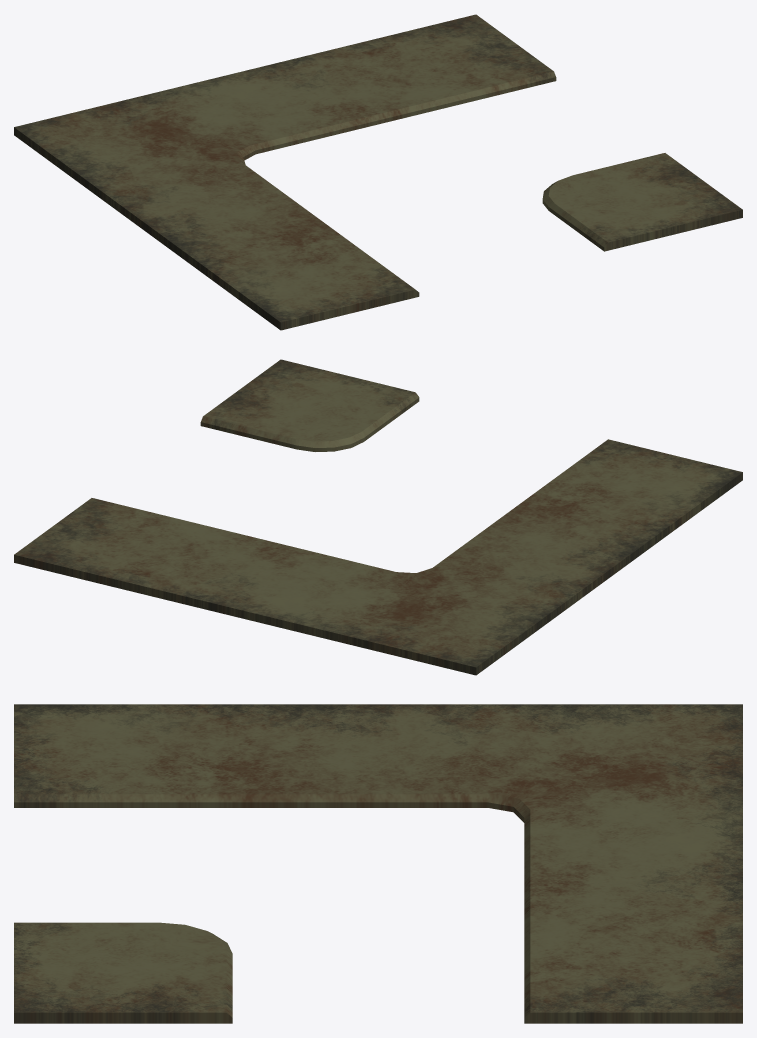
Rendered from L-tile-collider.fbx.
The picture shows the model from 3 angles, top to bottom: view 1: azimuth 30°, elevation 25°; view 2: azimuth 150°, elevation 25°; view 3: azimuth 270°, elevation 25°; orthographic projection. The views are drawn at different scales.
Visible parts, largest first — view 1: L_collider_box; view 2: L_collider_box; view 3: L_collider_box.
Part boxes in pixels (x1,y1,x2,y2): L_collider_box: (14, 14, 742, 330); L_collider_box: (14, 359, 742, 675); L_collider_box: (14, 704, 742, 1023).
Bounding box in the file's own units: 1300 × 21.69 × 1300.
